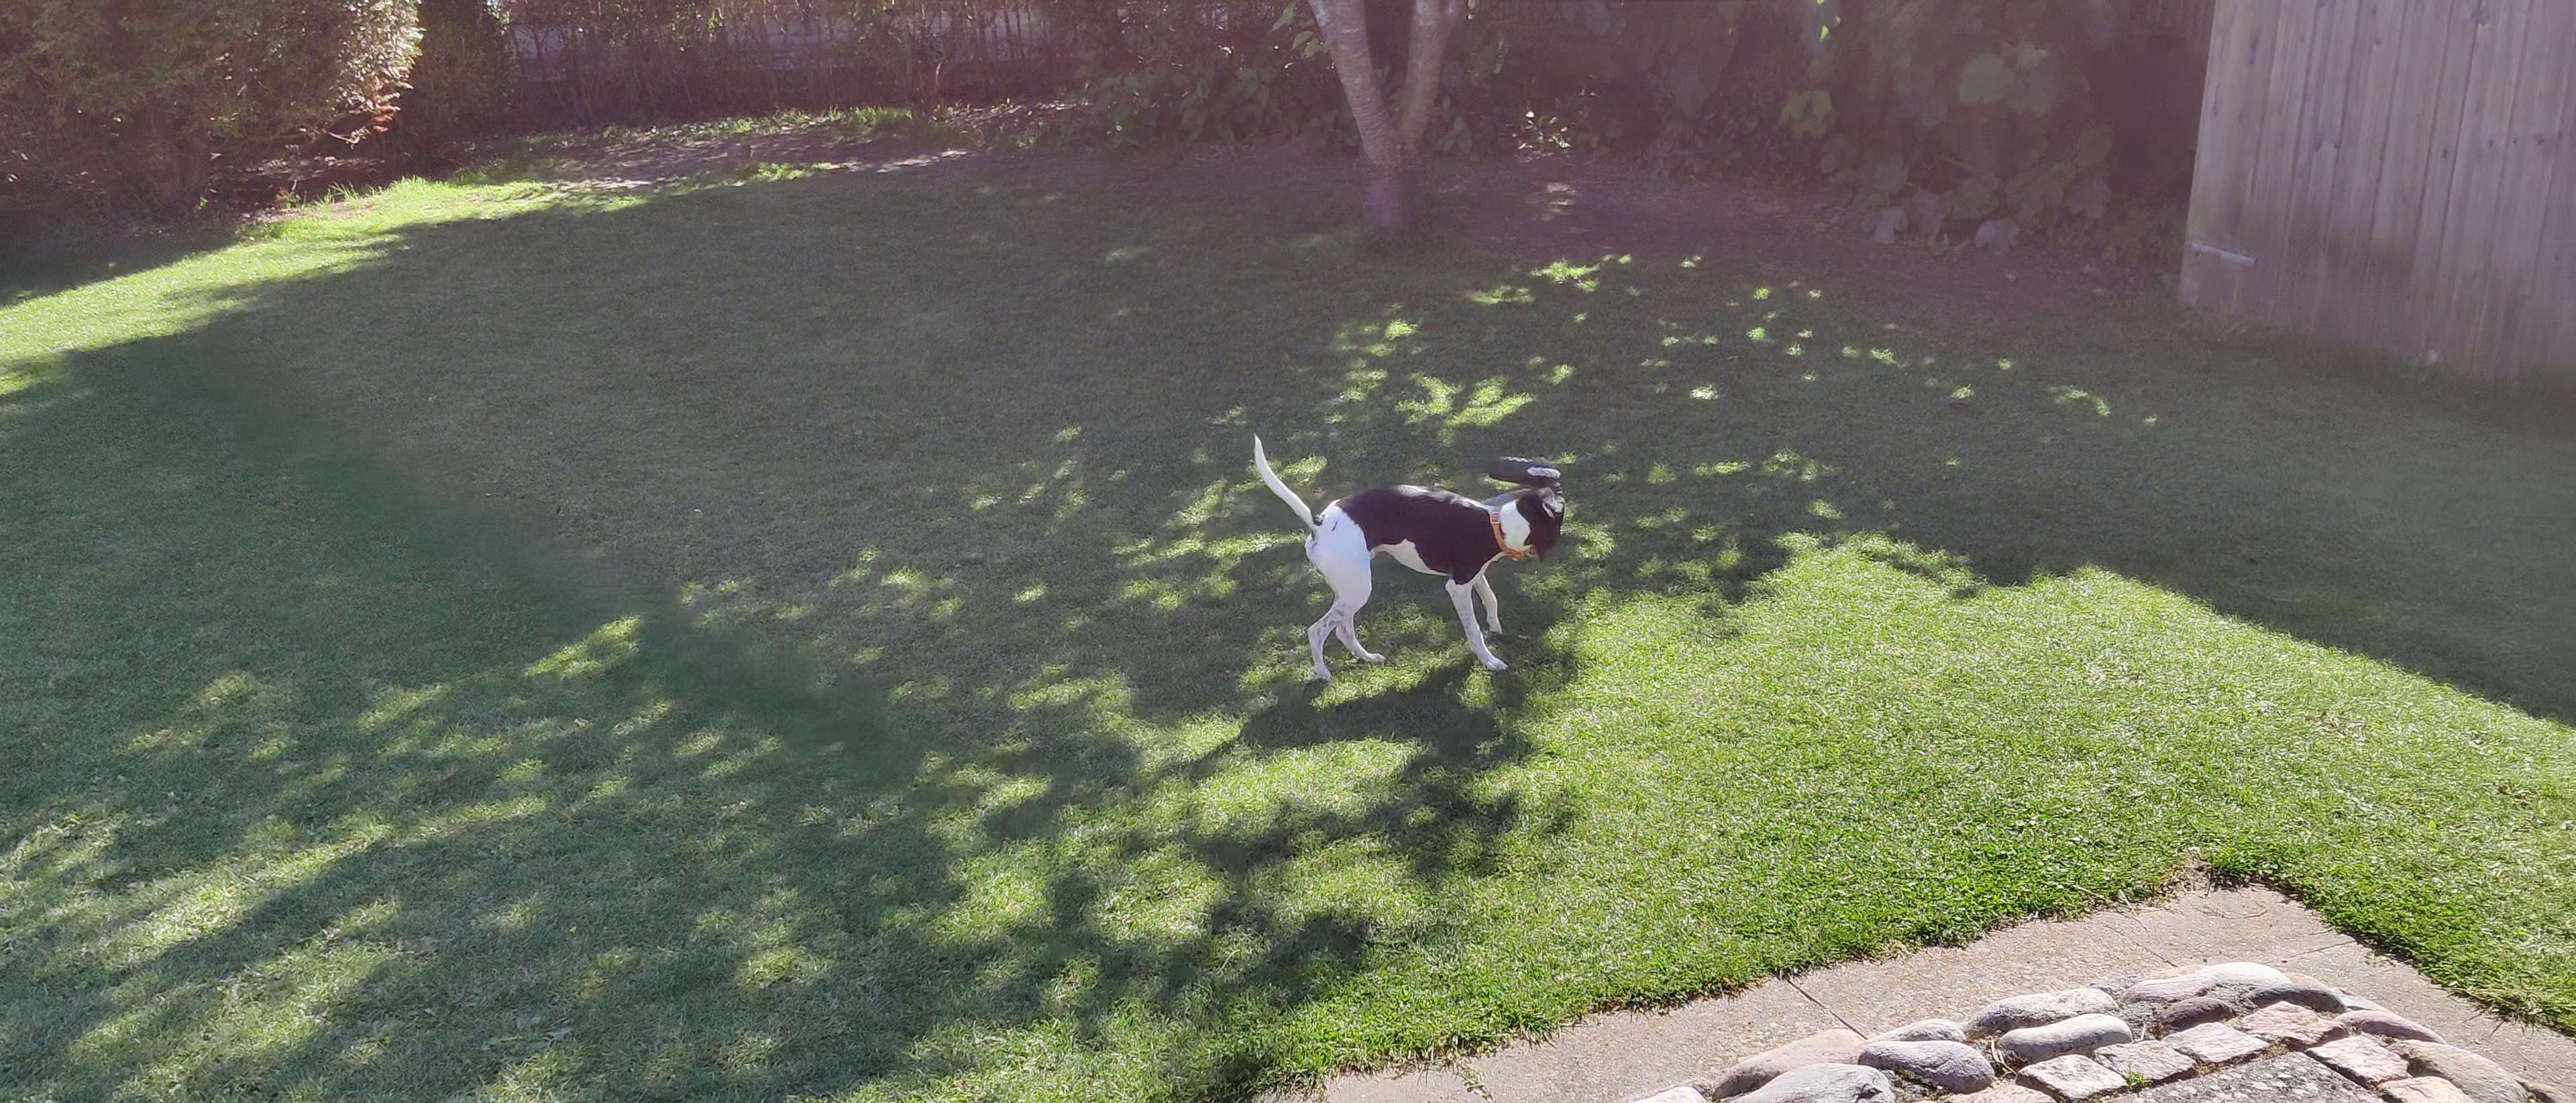Dog: (1249, 413, 1579, 690)
